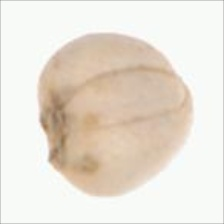L5: (65, 66, 191, 135), (35, 86, 70, 168)
L6: (35, 30, 197, 199)
